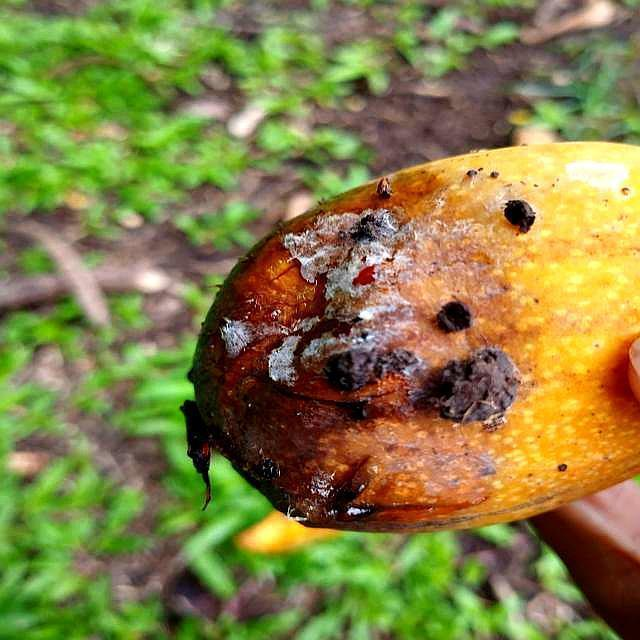Biodegradable: (193, 137, 640, 543)
